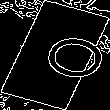O_W: (14, 26, 96, 84)
